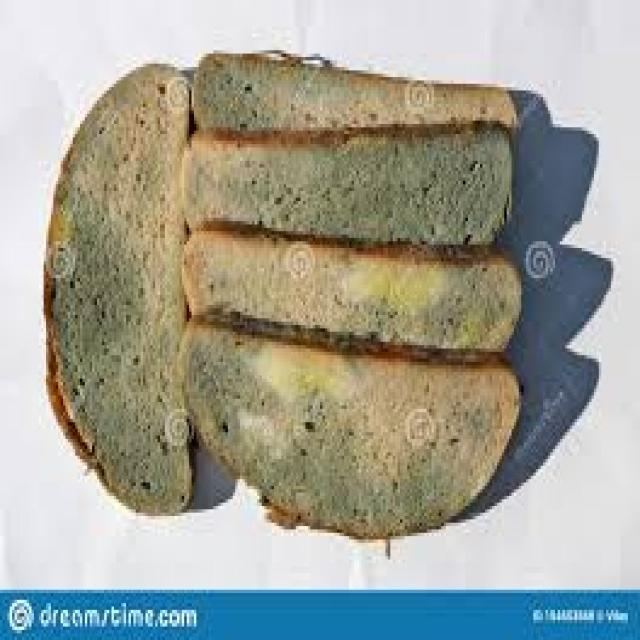organic waste: (175, 312, 521, 540), (39, 57, 189, 509), (177, 215, 521, 355), (175, 117, 509, 248), (189, 47, 516, 141)
